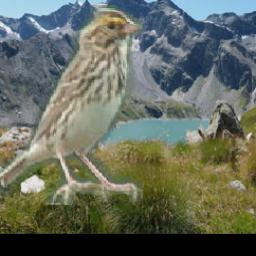Sparrow: (0, 6, 143, 206)
